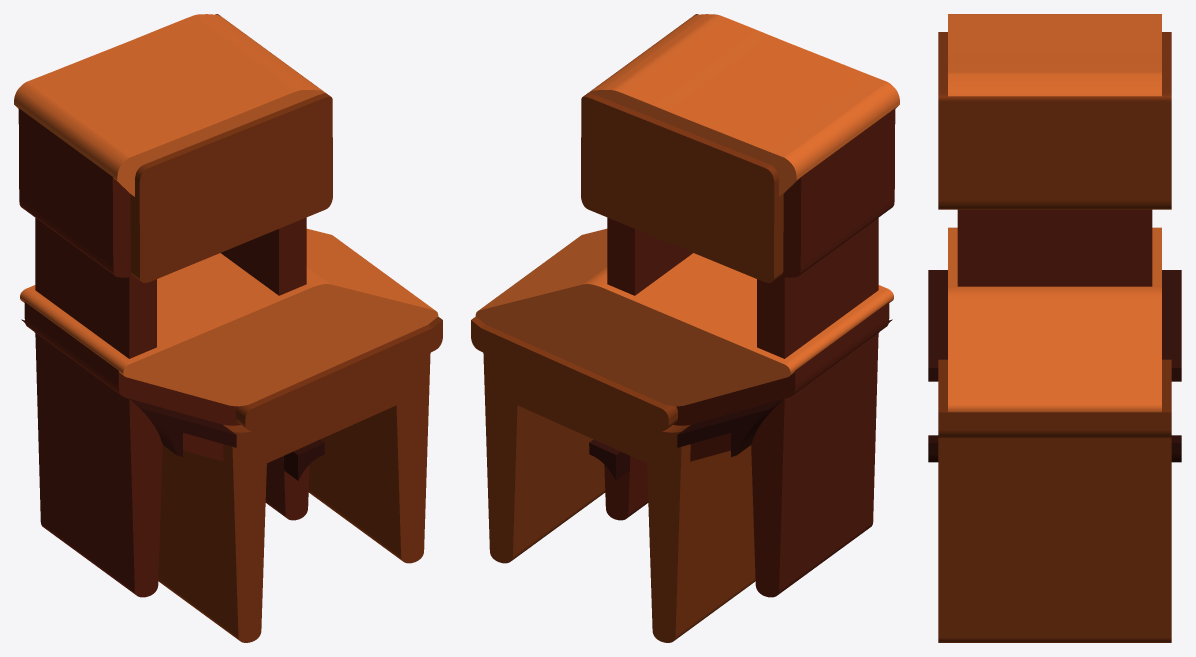
3 views of the same model, side by side, from view 1: azimuth 30°, elevation 25°; view 2: azimuth 150°, elevation 25°; view 3: azimuth 270°, elevation 25° (orthographic). The views are drawn at different scales.
Parts seen in each view (by area): view 1: U+1FA91_layer02_obj00, U+1FA91_layer01_obj01, U+1FA91_layer00_obj04, U+1FA91_layer01_obj00, U+1FA91_layer02_obj01, U+1FA91_layer00_obj00, U+1FA91_layer00_obj03, U+1FA91_layer03_obj00, U+1FA91_layer00_obj01, U+1FA91_layer03_obj01; view 2: U+1FA91_layer02_obj00, U+1FA91_layer01_obj01, U+1FA91_layer00_obj04, U+1FA91_layer01_obj00, U+1FA91_layer02_obj01, U+1FA91_layer00_obj00, U+1FA91_layer00_obj03, U+1FA91_layer03_obj00, U+1FA91_layer00_obj01, U+1FA91_layer03_obj01; view 3: U+1FA91_layer02_obj00, U+1FA91_layer01_obj01, U+1FA91_layer02_obj01, U+1FA91_layer01_obj00, U+1FA91_layer00_obj03, U+1FA91_layer03_obj00, U+1FA91_layer03_obj01.
Part boxes in pixels (left/top/right/bottom): U+1FA91_layer02_obj00: left=158, top=316, right=442, bottom=642; U+1FA91_layer01_obj01: left=20, top=228, right=438, bottom=406; U+1FA91_layer00_obj04: left=24, top=302, right=240, bottom=597; U+1FA91_layer01_obj00: left=14, top=14, right=325, bottom=196; U+1FA91_layer02_obj01: left=130, top=14, right=332, bottom=282; U+1FA91_layer00_obj00: left=18, top=108, right=156, bottom=358; U+1FA91_layer00_obj03: left=221, top=217, right=306, bottom=295; U+1FA91_layer03_obj00: left=21, top=319, right=236, bottom=456; U+1FA91_layer00_obj01: left=265, top=456, right=309, bottom=520; U+1FA91_layer03_obj01: left=284, top=439, right=324, bottom=480; U+1FA91_layer02_obj00: left=471, top=316, right=755, bottom=642; U+1FA91_layer01_obj01: left=475, top=228, right=893, bottom=406; U+1FA91_layer00_obj04: left=673, top=302, right=889, bottom=597; U+1FA91_layer01_obj00: left=588, top=14, right=899, bottom=196; U+1FA91_layer02_obj01: left=581, top=14, right=783, bottom=282; U+1FA91_layer00_obj00: left=757, top=108, right=895, bottom=358; U+1FA91_layer00_obj03: left=607, top=217, right=692, bottom=295; U+1FA91_layer03_obj00: left=677, top=319, right=892, bottom=456; U+1FA91_layer00_obj01: left=604, top=456, right=648, bottom=520; U+1FA91_layer03_obj01: left=589, top=439, right=629, bottom=480; U+1FA91_layer02_obj00: left=938, top=359, right=1171, bottom=642; U+1FA91_layer01_obj01: left=948, top=227, right=1161, bottom=412; U+1FA91_layer02_obj01: left=938, top=32, right=1171, bottom=209; U+1FA91_layer01_obj00: left=948, top=14, right=1161, bottom=96; U+1FA91_layer00_obj03: left=957, top=209, right=1152, bottom=286; U+1FA91_layer03_obj00: left=928, top=270, right=1181, bottom=381; U+1FA91_layer03_obj01: left=928, top=435, right=1181, bottom=462.
Size of the model in its own units: 0.197 by 0.3141 by 0.13.
